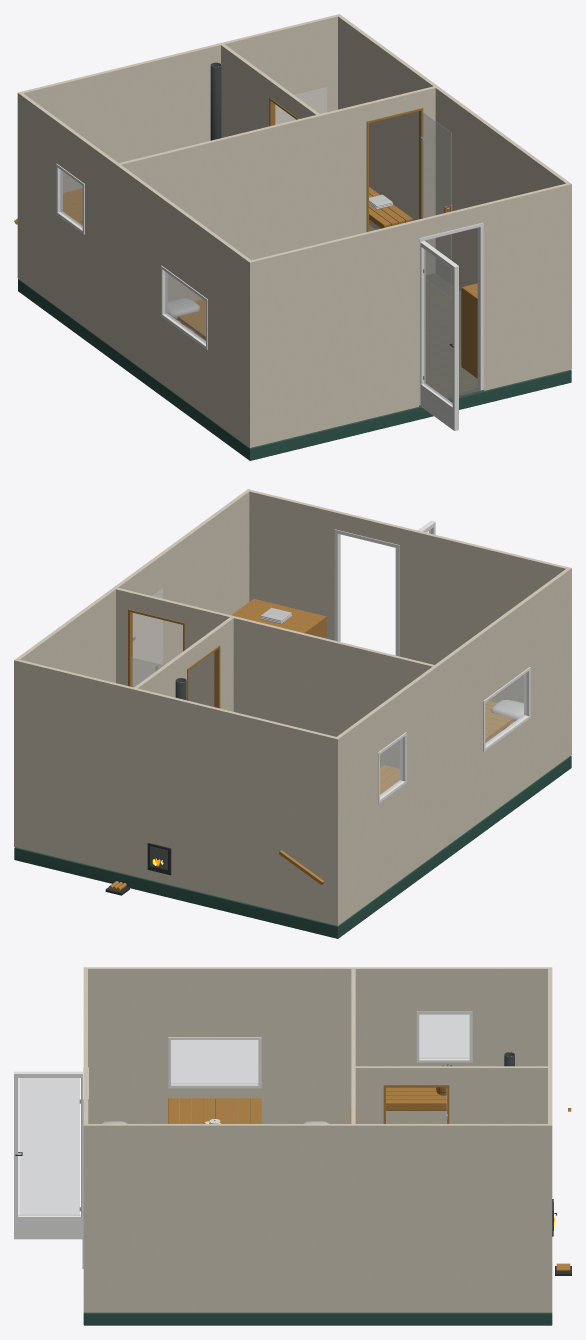
3 renders of one model, top to bottom at view 1: azimuth 30°, elevation 25°; view 2: azimuth 150°, elevation 25°; view 3: azimuth 270°, elevation 25°, orthographic.
Visible parts, largest first — view 1: Wall front band 2, Foundation, Wall front band 5, Wall front band 4, Wall front band 6, Wall front band 7, Wall left band 2, Wall front band 1, Wall rear band 7, Wall front band 8, Wall v4_p17_top_6_0004 band 8, Wall v4_p17_top_6_0004 band 7 (+39 smaller); view 2: Wall rear band 2, Wall rear band 6, Wall rear band 7, Wall rear band 4, Wall rear band 5, Foundation, Wall rear band 1, Wall left band 2, Wall rear band 8, Wall front band 8, Wall left band 7, Wall v4_p17_top_6_0004 band 8 (+29 smaller); view 3: Wall right band 2, Wall right band 7, Wall right band 4, Wall right band 5, Wall right band 6, Wall left band 7, Wall right band 1, Wall left band 6, Wall right band 8, Wall left band 8, Single PVC glass panel, Wall left band 5 (+19 smaller).
Part boxes in pixels (x1,y1,x2,y2): Wall front band 2: [248, 306, 571, 412]; Foundation: [18, 279, 571, 460]; Wall front band 5: [248, 251, 571, 355]; Wall front band 4: [248, 277, 571, 380]; Wall front band 6: [248, 226, 571, 329]; Wall front band 7: [248, 201, 571, 304]; Wall left band 2: [19, 216, 247, 410]; Wall front band 1: [248, 334, 571, 436]; Wall rear band 7: [17, 33, 337, 135]; Wall front band 8: [248, 182, 571, 279]; Wall v4_p17_top_6_0004 band 8: [119, 86, 435, 177]; Wall v4_p17_top_6_0004 band 7: [138, 105, 435, 196]; Wall rear band 2: [14, 783, 340, 890]; Wall rear band 6: [14, 702, 340, 806]; Wall rear band 7: [14, 677, 340, 781]; Wall rear band 4: [14, 753, 340, 857]; Wall rear band 5: [14, 728, 340, 832]; Foundation: [14, 755, 571, 938]; Wall rear band 1: [14, 811, 340, 914]; Wall left band 2: [340, 693, 569, 888]; Wall rear band 8: [14, 659, 340, 756]; Wall front band 8: [246, 489, 571, 586]; Wall left band 7: [340, 587, 569, 779]; Wall v4_p17_top_6_0004 band 8: [116, 588, 434, 679]; Wall right band 2: [88, 1249, 547, 1276]; Wall right band 7: [88, 1142, 547, 1168]; Wall right band 4: [88, 1219, 547, 1244]; Wall right band 5: [88, 1193, 547, 1218]; Wall right band 6: [88, 1168, 547, 1193]; Wall left band 7: [88, 986, 547, 1011]; Wall right band 1: [88, 1277, 547, 1300]; Wall left band 6: [88, 1011, 547, 1036]; Wall right band 8: [88, 1124, 547, 1142]; Wall left band 8: [88, 967, 547, 985]; Single PVC glass panel: [19, 1078, 79, 1215]; Wall left band 5: [88, 1037, 547, 1062].
Bounding box in the file's own units: 4.01 × 2.36 × 5.95.
Materials: 34 (15 with a texture image).
